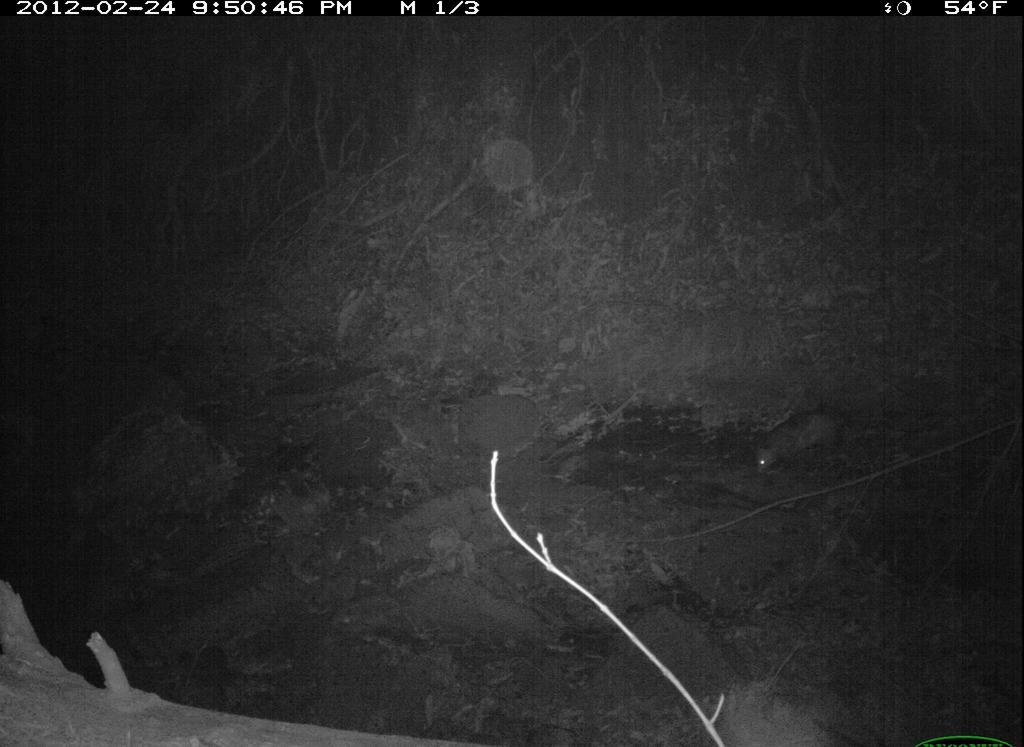opossum: (738, 393, 871, 486)
